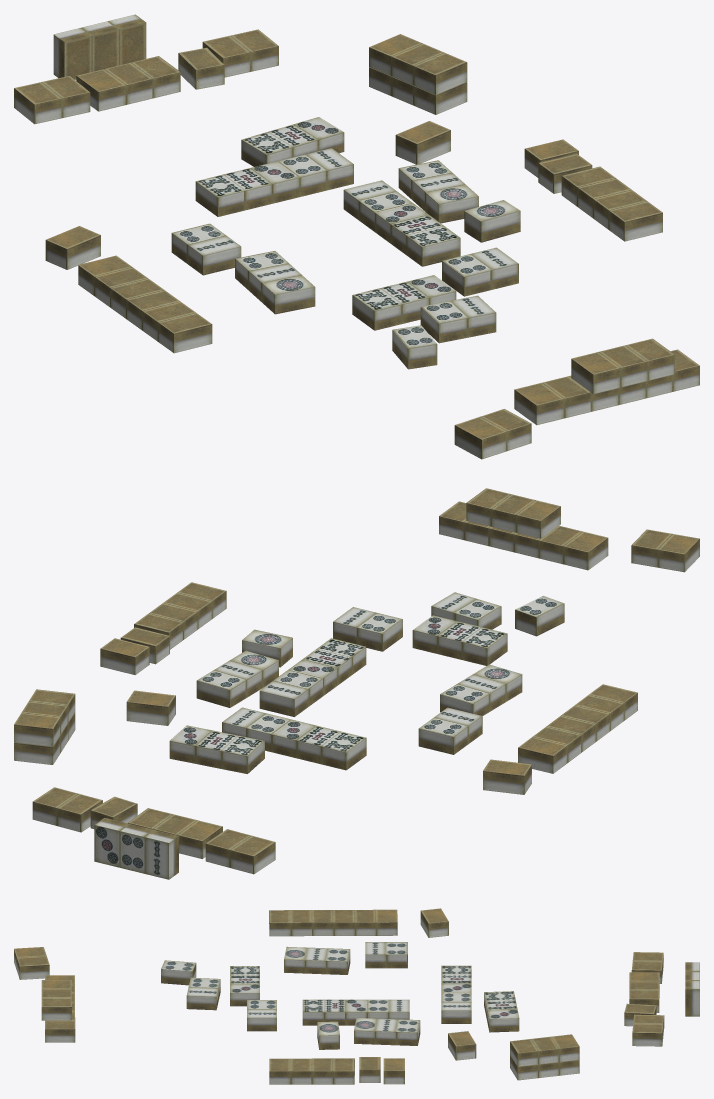
The model's file is bg_lut_lucastle_gameble02_sm_msj.FBX.
The picture shows the model from 3 angles, top to bottom: view 1: azimuth 30°, elevation 25°; view 2: azimuth 150°, elevation 25°; view 3: azimuth 270°, elevation 25°; orthographic projection. The views are drawn at different scales.
Parts seen in each view (by area): view 1: bg_lut_lucastle_gameble02_sm_msj; view 2: bg_lut_lucastle_gameble02_sm_msj; view 3: bg_lut_lucastle_gameble02_sm_msj.
Boxes of the visible parts, x1,y1,x2,y2 form: bg_lut_lucastle_gameble02_sm_msj: [14, 14, 699, 459]; bg_lut_lucastle_gameble02_sm_msj: [14, 488, 699, 879]; bg_lut_lucastle_gameble02_sm_msj: [14, 908, 699, 1084].
Size of the model in its own units: 80.15 by 6.6 by 143.
